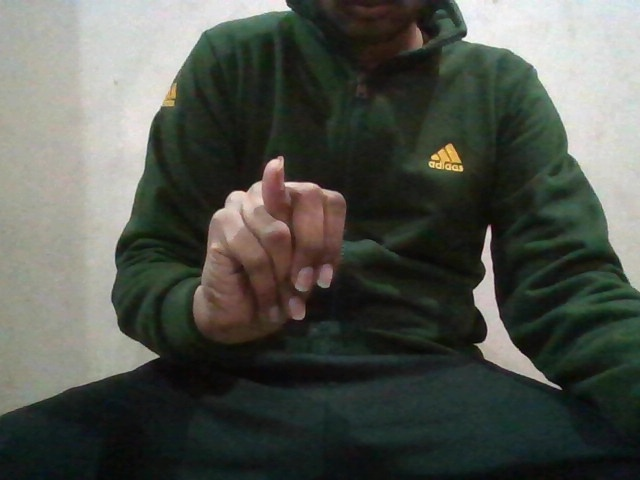N: (200, 151, 355, 339)
